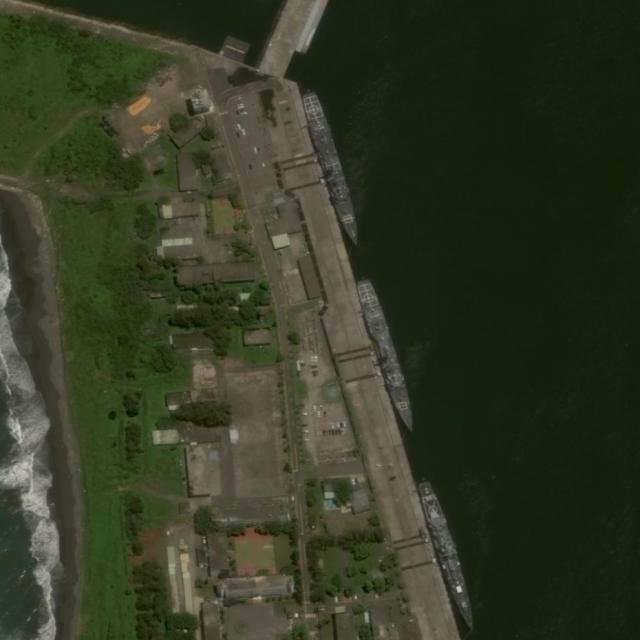Frigate: (301, 90, 368, 248), (354, 275, 421, 433), (416, 476, 480, 639)
